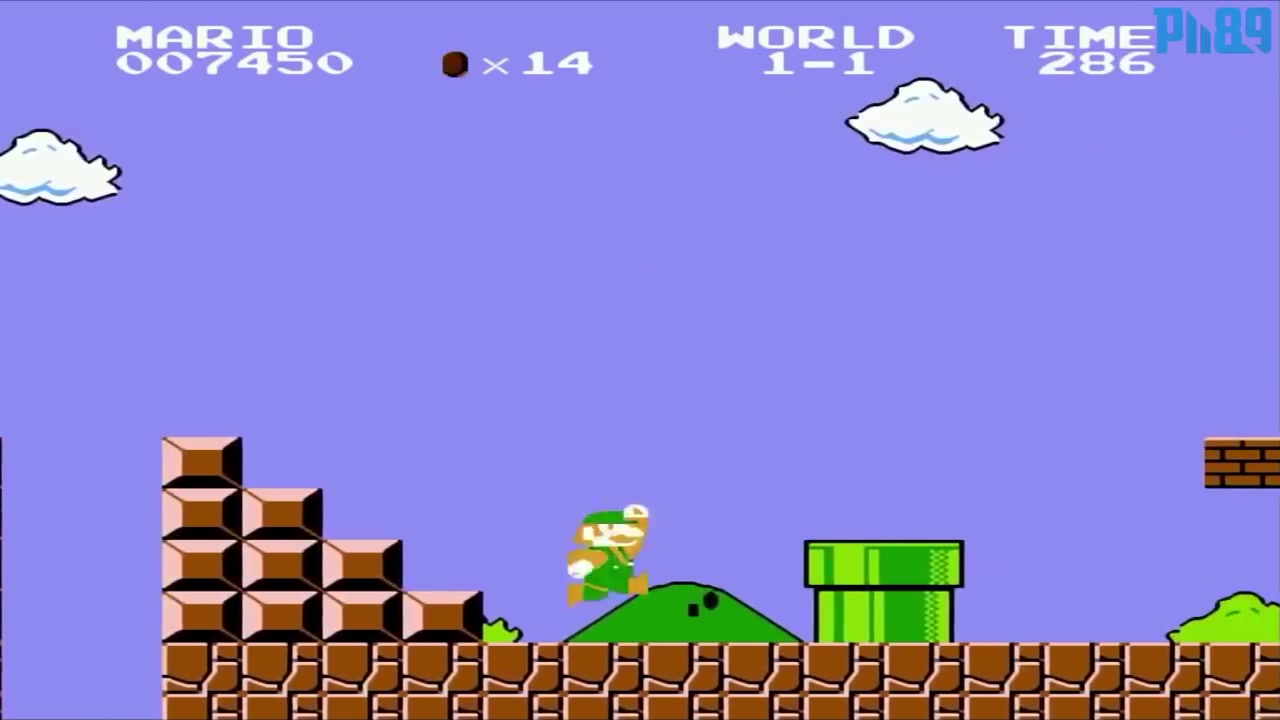mario: (565, 504, 663, 608)
